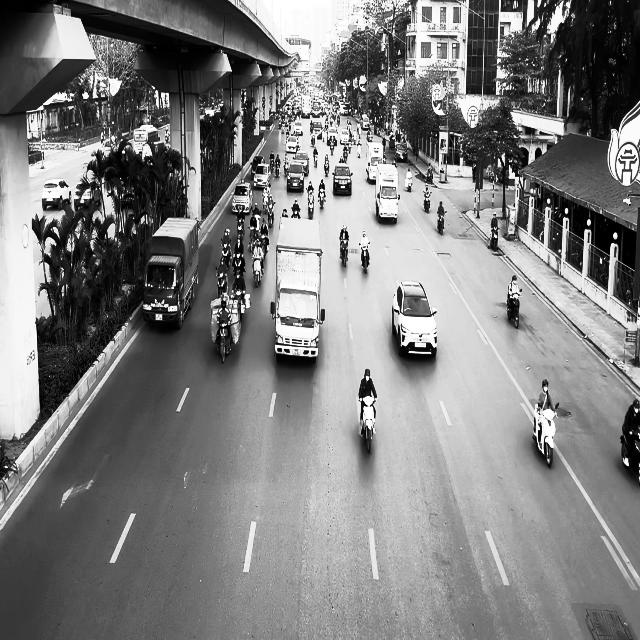car: (392, 280, 438, 358), (74, 176, 102, 212), (42, 178, 72, 210), (232, 182, 254, 214), (333, 163, 353, 196), (286, 161, 304, 192), (395, 142, 408, 162)
motorbike: (532, 401, 559, 468), (620, 424, 640, 485), (358, 396, 378, 454), (216, 314, 232, 363), (507, 288, 522, 328), (216, 266, 228, 298), (253, 254, 264, 287), (360, 241, 370, 273), (489, 226, 500, 252), (340, 238, 350, 266), (437, 210, 447, 236), (423, 189, 432, 213), (307, 193, 315, 219), (318, 188, 326, 208), (405, 176, 413, 191)
truck: (271, 216, 325, 362), (142, 216, 200, 329)
